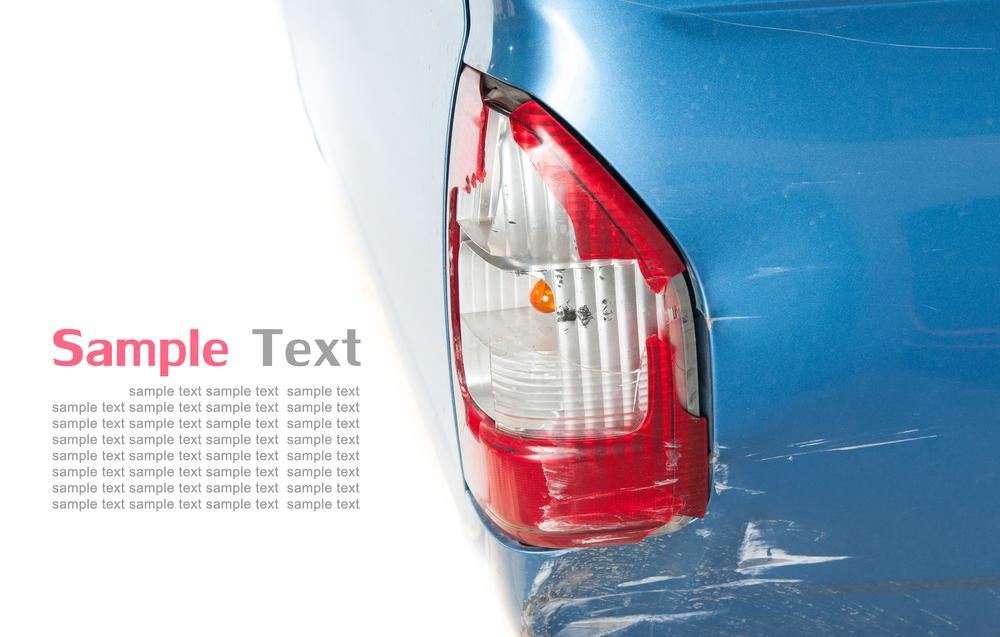dent: (537, 365, 935, 637), (680, 174, 849, 329)
lamp broken: (445, 65, 709, 552)
